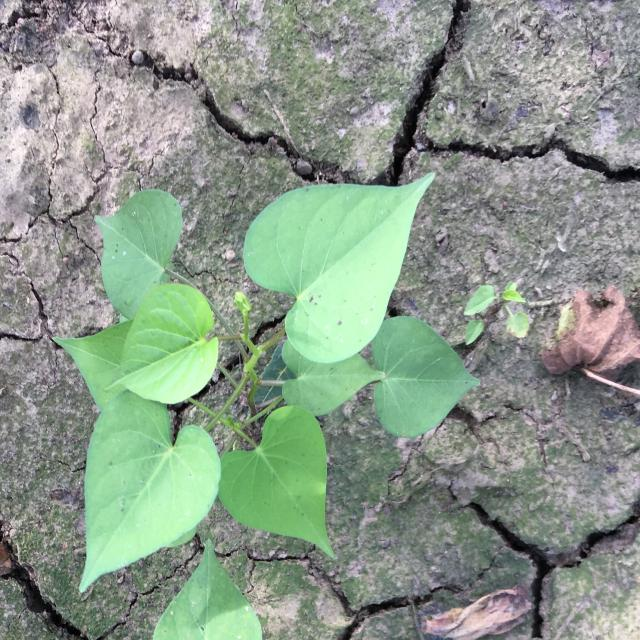MorningGlory: (52, 172, 481, 594), (152, 538, 263, 640), (463, 281, 530, 345)
